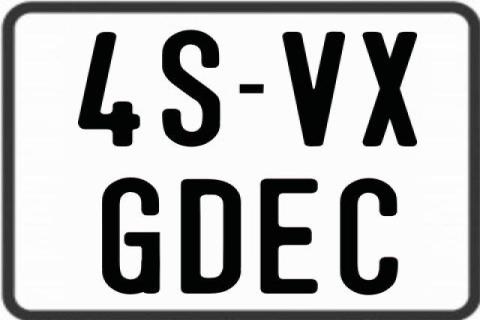0: (78, 32, 141, 148)
C: (338, 178, 401, 294)
D: (178, 179, 239, 296)
E: (257, 178, 321, 298)
G: (99, 175, 162, 296)
S: (160, 29, 222, 149)
V: (279, 31, 347, 146)
X: (362, 32, 418, 146)
